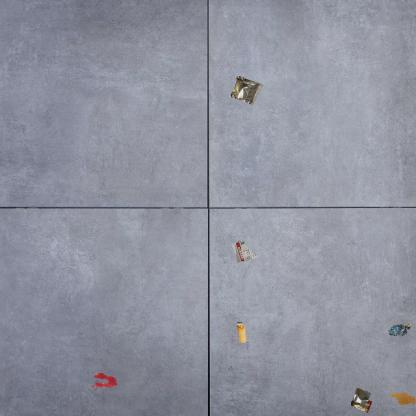dirty: (228, 74, 263, 107), (348, 386, 374, 416), (230, 238, 259, 264), (386, 320, 415, 338), (234, 320, 248, 344)
liquid: (90, 372, 118, 388), (390, 392, 415, 406)
